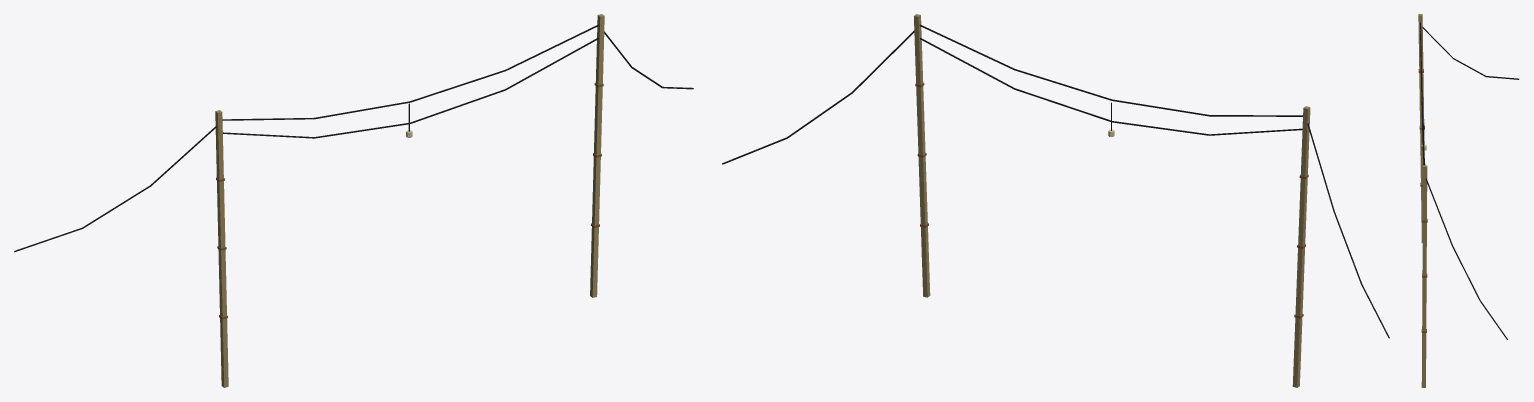
File: prop_bamboo-wires.be7456d41851.glb
3 views of the same model, side by side, from view 1: azimuth 30°, elevation 25°; view 2: azimuth 150°, elevation 25°; view 3: azimuth 270°, elevation 25° (orthographic). The views are drawn at different scales.
Parts seen in each view (by area): view 1: body; view 2: body; view 3: body.
Part boxes in pixels (<box>): body: <box>14,14,693,387</box>; body: <box>722,14,1389,387</box>; body: <box>1418,14,1519,387</box>.
Bounding box in the file's own units: 16.43 × 6.5 × 2.66.
